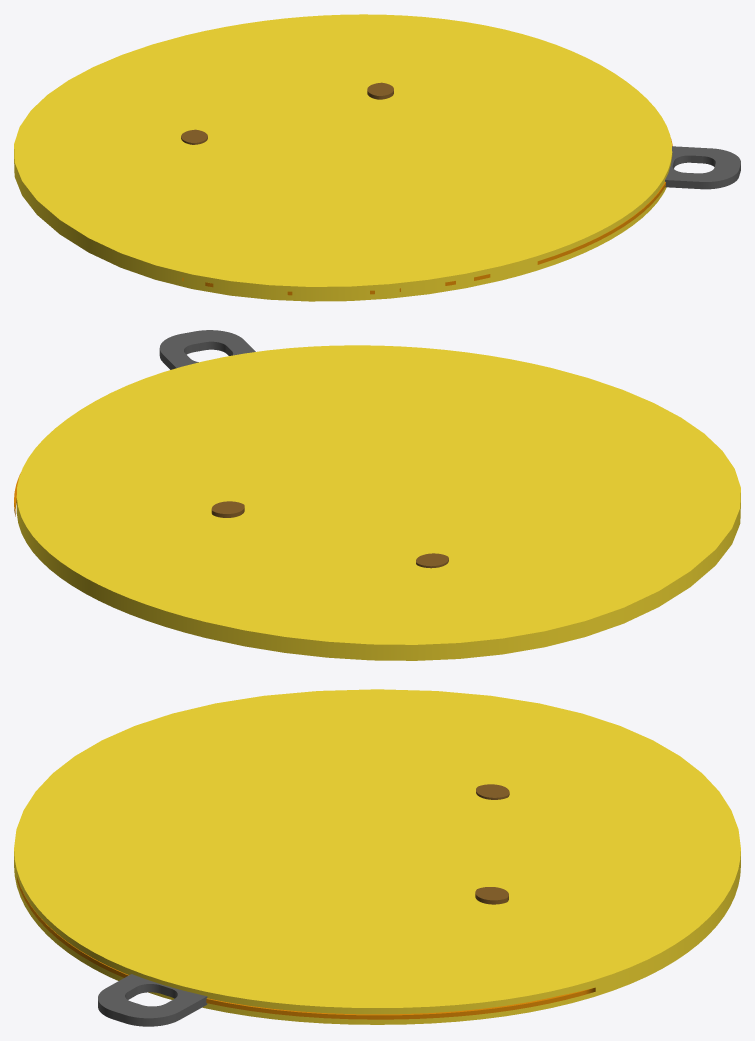
Rendered from emoji_u1f910.glb.
3 renders of one model, top to bottom at view 1: azimuth 30°, elevation 25°; view 2: azimuth 150°, elevation 25°; view 3: azimuth 270°, elevation 25°, orthographic. The views are drawn at different scales.
Parts seen in each view (by area): view 1: emoji_u1f910; view 2: emoji_u1f910; view 3: emoji_u1f910.
Boxes of the visible parts, left/top/right/bottom form: emoji_u1f910: left=14, top=14, right=740, bottom=301; emoji_u1f910: left=14, top=330, right=740, bottom=660; emoji_u1f910: left=14, top=689, right=740, bottom=1026.
Bounding box in the file's own units: 0.0332 × 0.0012 × 0.0315.
